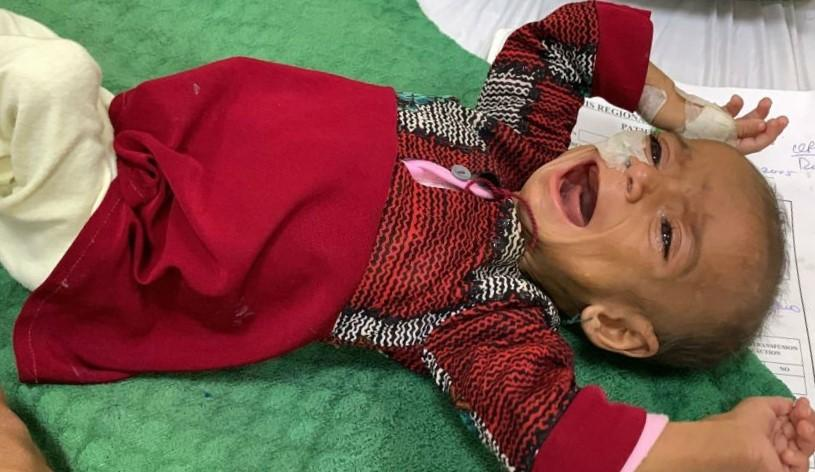Stunting: (529, 90, 815, 406)
